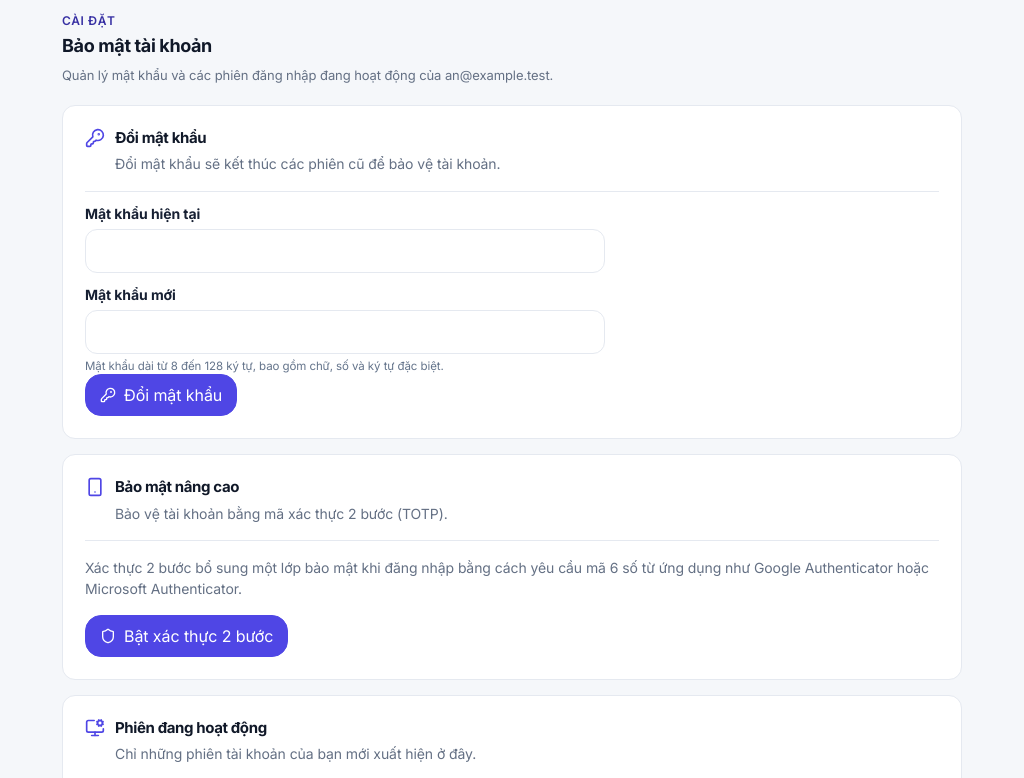
Test: SettingsPage password policy › displays error specifically next to current password and keeps session when current password is wrong
This screenshot has width=1024, height=778.
Expected: the heading "Bảo mật tài khoản" is shown, [62, 35, 212, 56]
Type "WrongPass123!" into the password field labelled "Mật khẩu hiện tại". click: [345, 251]
box: [85, 229, 605, 273]
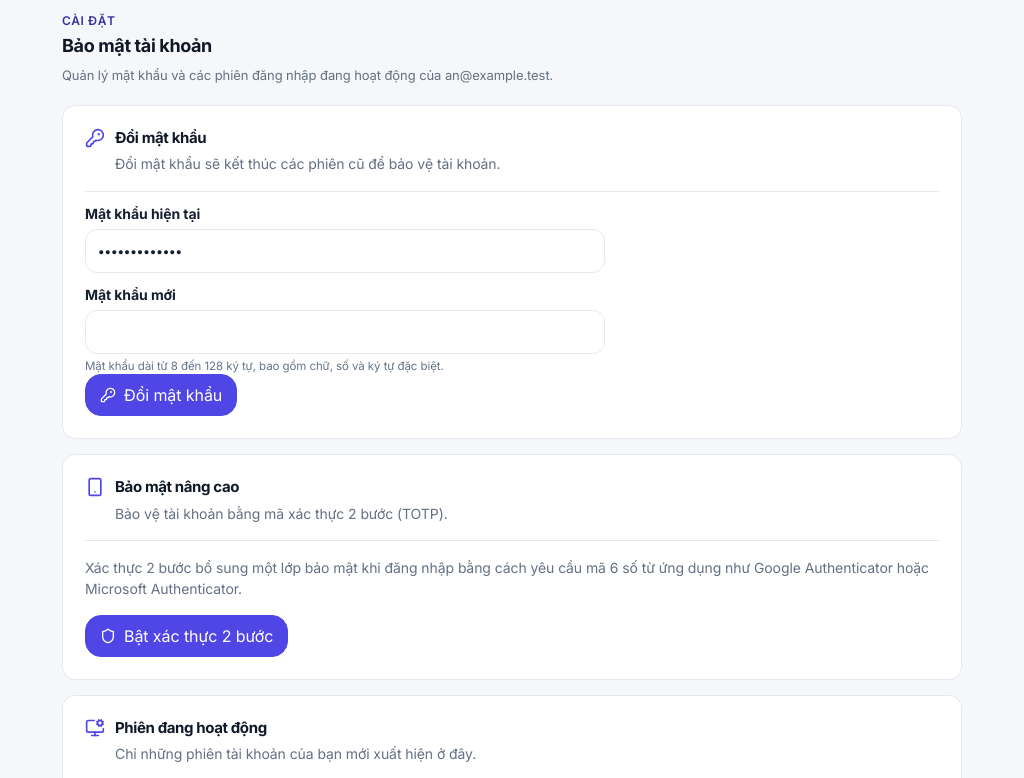
Type "ValidNewPass456#" into the password field labelled "Mật khẩu mới". click: [345, 332]
box: [85, 310, 605, 354]
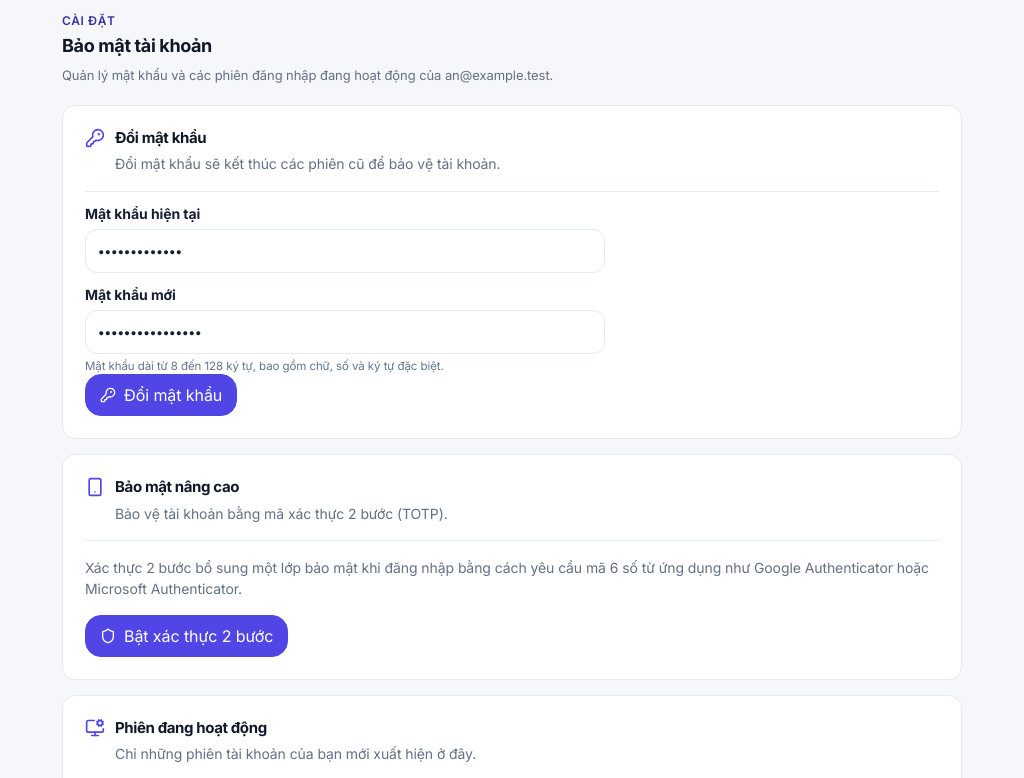
Submit the form named "Đổi mật khẩu", box [85, 204, 605, 416]
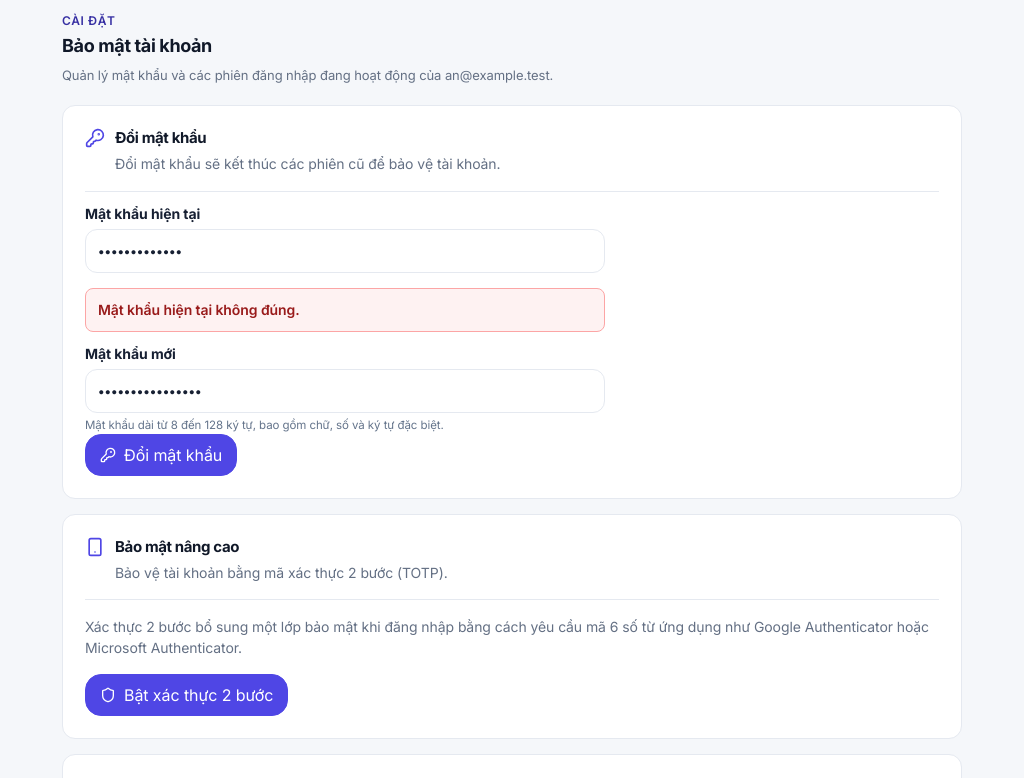
Result: the text "Mật khẩu hiện tại không đúng." is shown at [85, 288, 605, 332]
Typing into current password field clears the error
Type "WrongPass123!corrected" into the password field labelled "Mật khẩu hiện tại". click: [345, 251]
box: [85, 229, 605, 273]
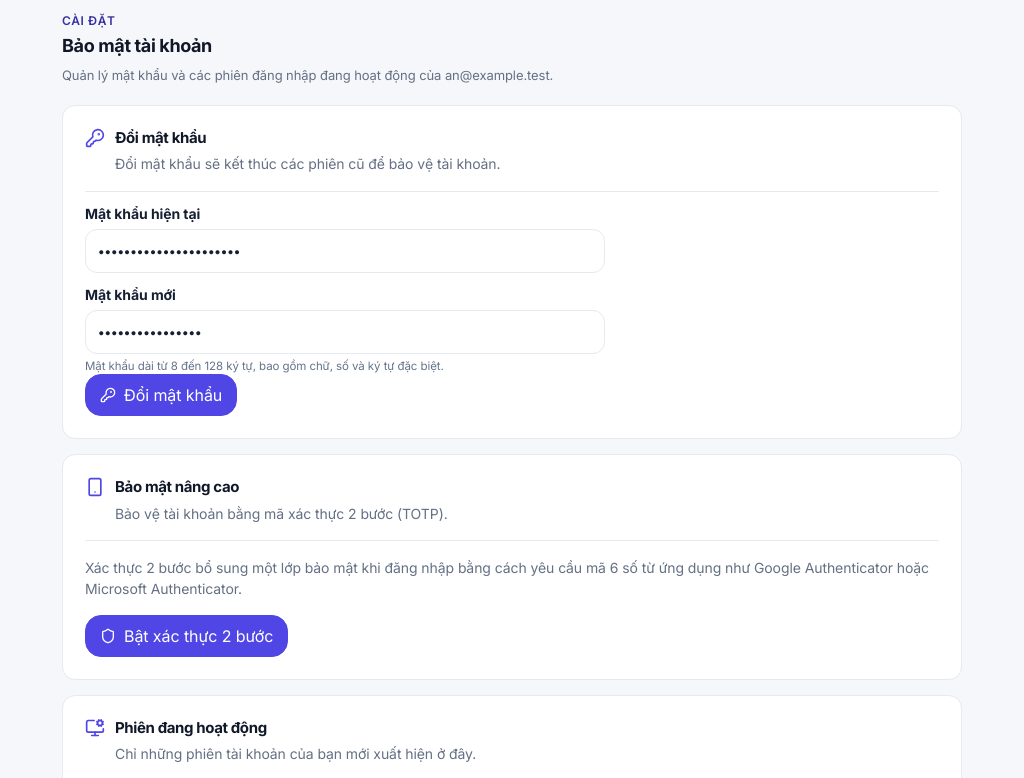
Result: the text "Mật khẩu hiện tại không đúng." is gone
